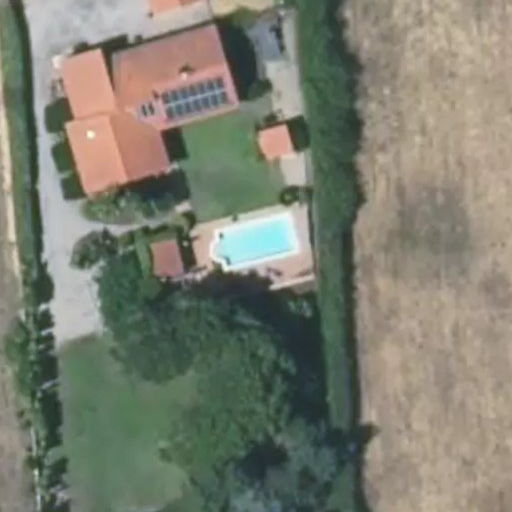pool: (216, 234, 293, 250)
